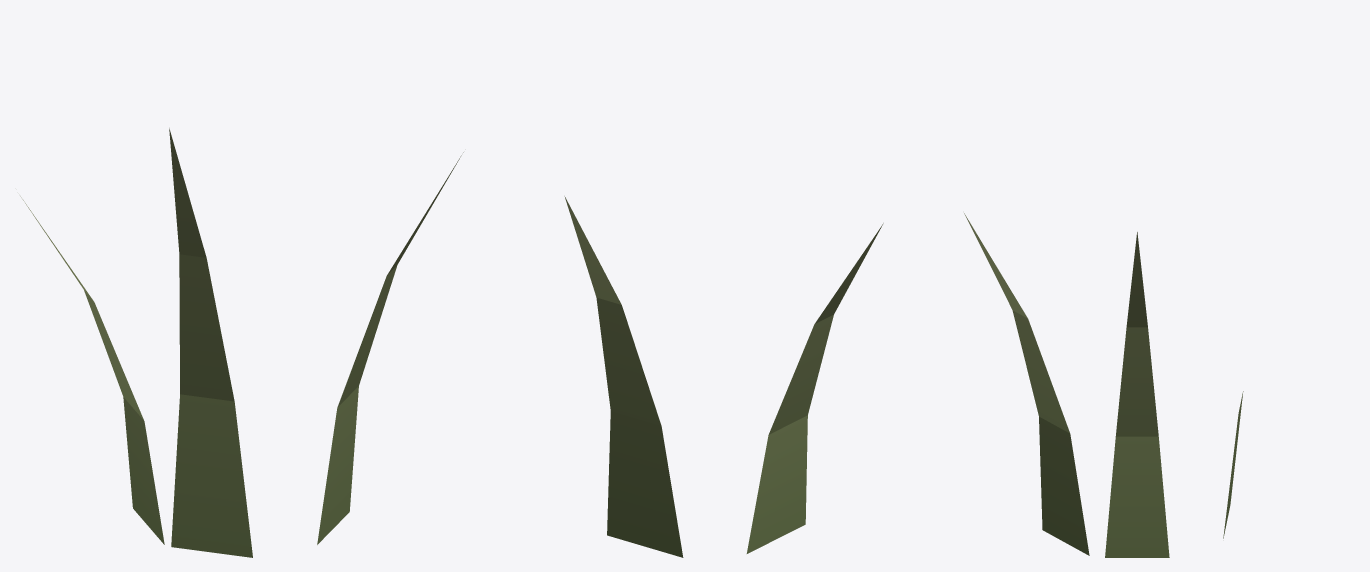
Rendered from meadow-grass.glb.
The picture shows the model from 3 angles, left to right: view 1: azimuth 30°, elevation 25°; view 2: azimuth 150°, elevation 25°; view 3: azimuth 270°, elevation 25°; orthographic projection. The views are drawn at different scales.
Parts seen in each view (by area): view 1: city-details/meadow-grass; view 2: city-details/meadow-grass; view 3: city-details/meadow-grass.
Boxes of the visible parts, left/top/right/bottom form: city-details/meadow-grass: left=20, top=128, right=463, bottom=557; city-details/meadow-grass: left=564, top=196, right=883, bottom=557; city-details/meadow-grass: left=964, top=213, right=1243, bottom=557.
Size of the model in its own units: 0.2183 by 0.2422 by 0.1969.
